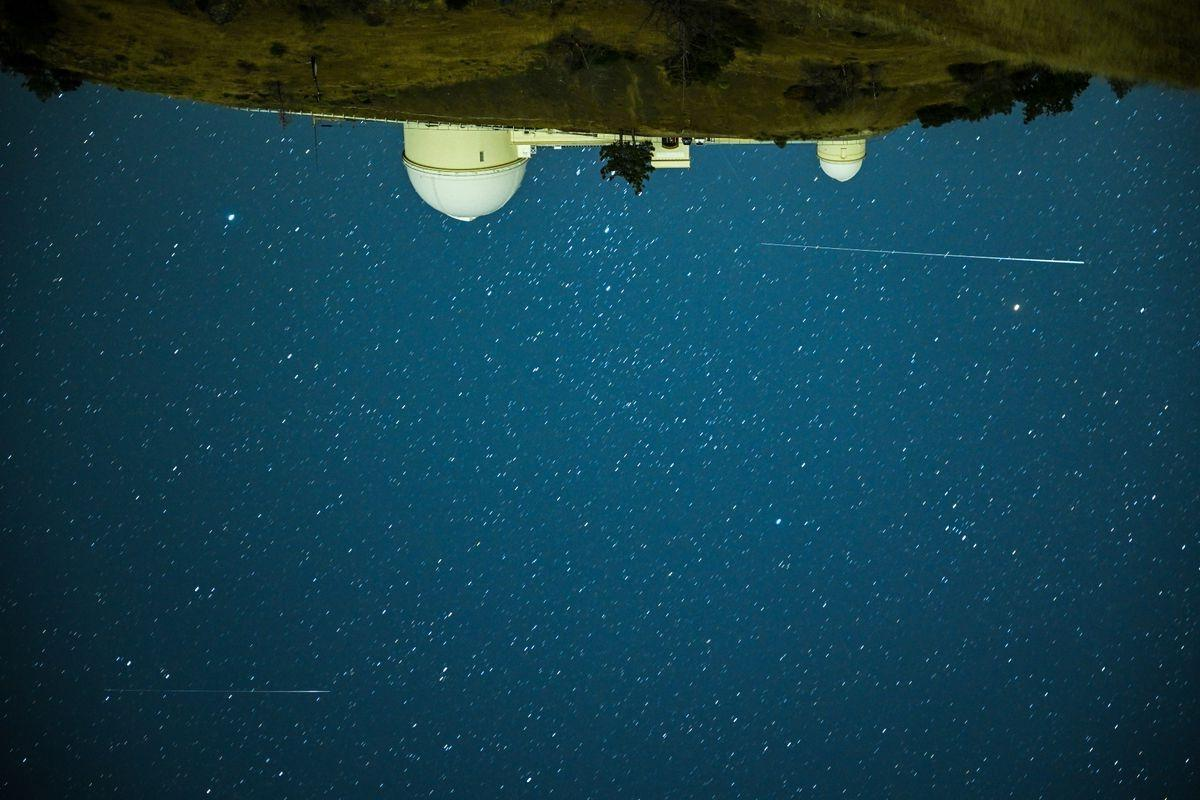meteorite: (745, 233, 1100, 300), (248, 683, 337, 701)
